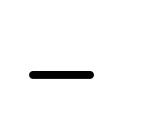minus: (29, 71, 94, 79)
